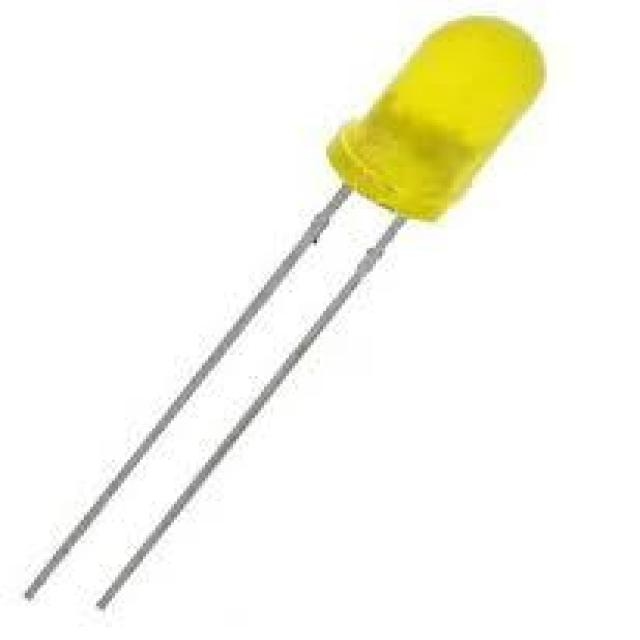Led: (25, 16, 544, 598)
